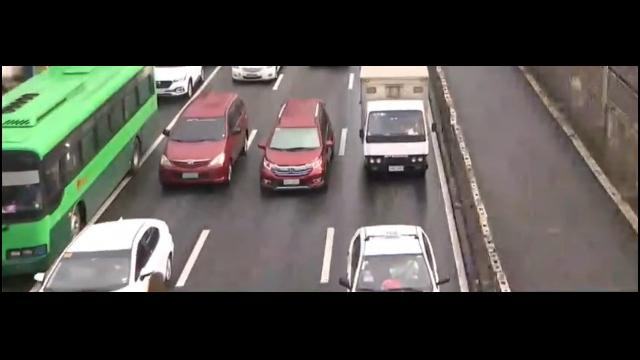bus: (0, 64, 157, 273)
car: (33, 209, 179, 295), (156, 84, 255, 185), (254, 96, 339, 195), (338, 218, 448, 291), (152, 66, 204, 99), (230, 65, 282, 83)
truck: (359, 67, 432, 183)
